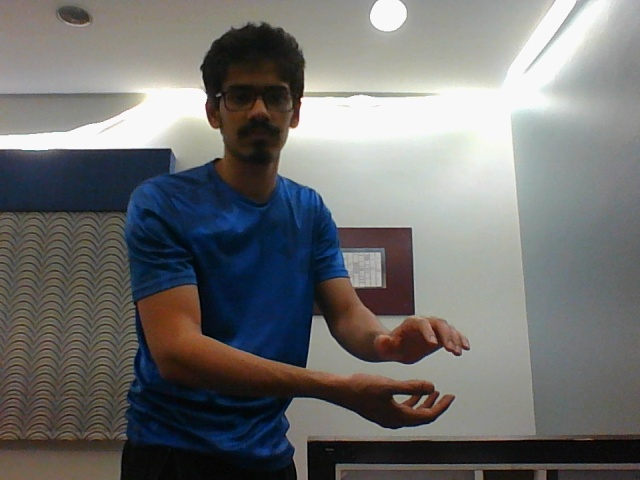charge: (346, 310, 471, 428)
